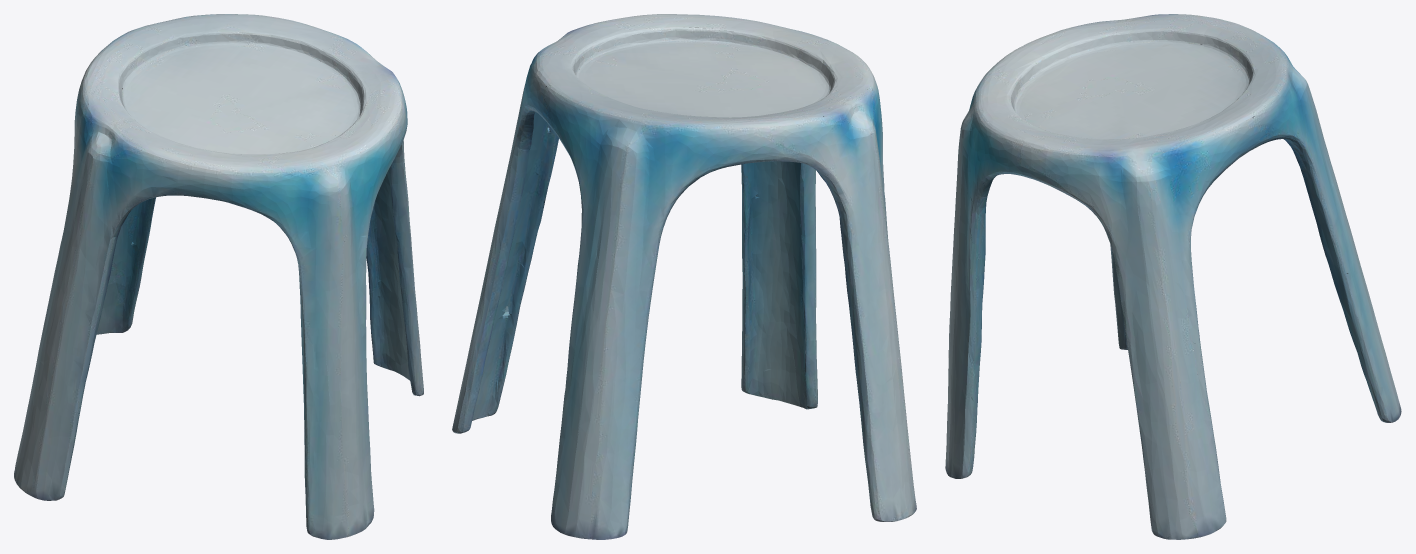
The model's file is blue_plastic_stool_in_the_middle_000.glb.
3 renders of one model, left to right at view 1: azimuth 30°, elevation 25°; view 2: azimuth 150°, elevation 25°; view 3: azimuth 270°, elevation 25°, orthographic. The views are drawn at different scales.
Visible parts, largest first — view 1: blue_plastic_stool_in_the_middle_000.obj; view 2: blue_plastic_stool_in_the_middle_000.obj; view 3: blue_plastic_stool_in_the_middle_000.obj.
Boxes of the visible parts, x1,y1,x2,y2 form: blue_plastic_stool_in_the_middle_000.obj: (14, 14, 423, 539); blue_plastic_stool_in_the_middle_000.obj: (452, 14, 916, 539); blue_plastic_stool_in_the_middle_000.obj: (945, 14, 1401, 539).
Bounding box in the file's own units: 0.1905 × 0.176 × 0.1845.
1 material, 1 textured.
